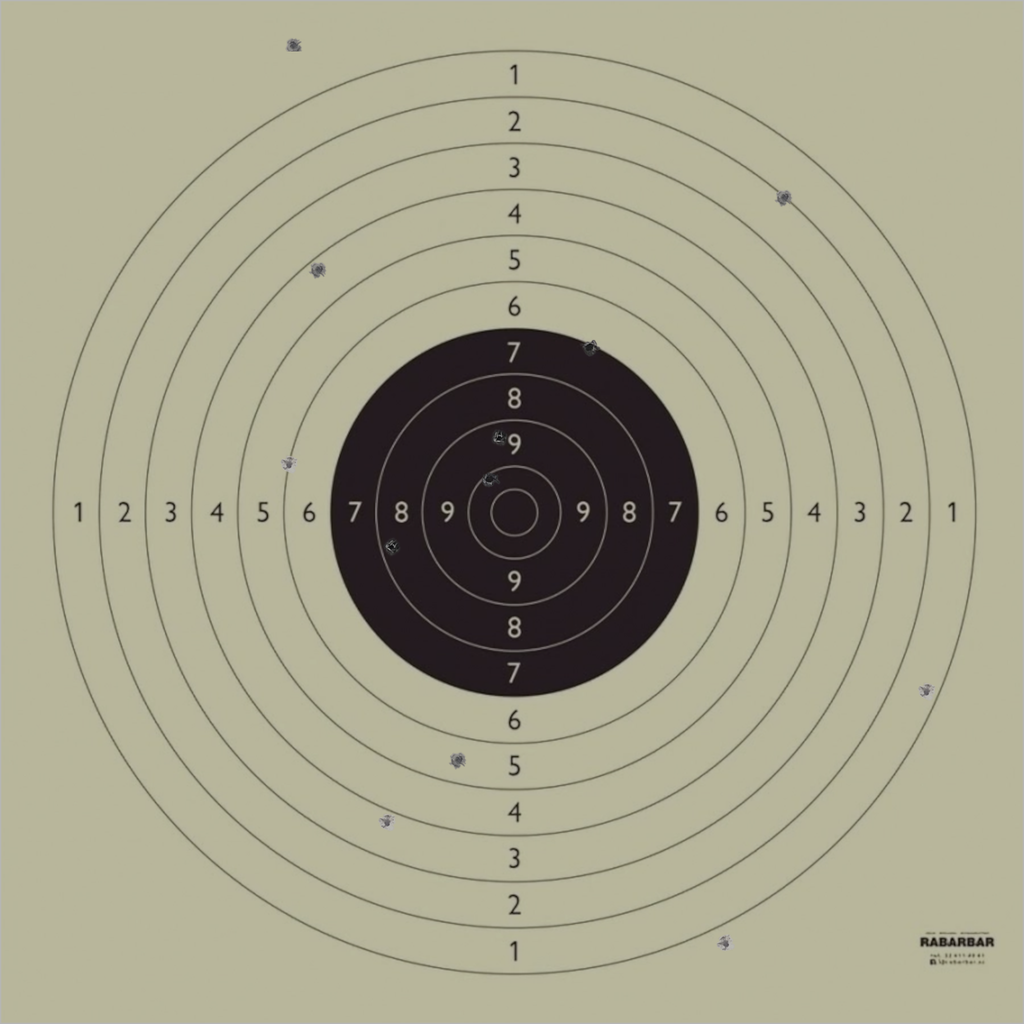0 punktow: (716, 935, 735, 953)
1 punkt: (917, 682, 936, 701)
10 punktow: (481, 470, 499, 489)
2 punkty: (775, 188, 794, 207)
3 punkty: (378, 813, 396, 832)
4 punkty: (310, 261, 328, 279)
5 punktow: (449, 751, 468, 769)
6 punktow: (280, 455, 298, 474)
7 punktow: (581, 338, 599, 356)
8 punktow: (382, 538, 400, 556)
9 punktow: (490, 429, 508, 448)
